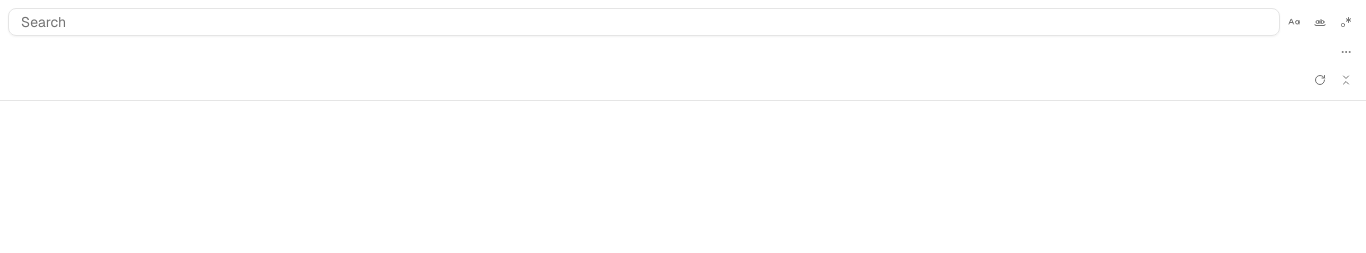
Test case: SearchPanel results › shows grouped results and the result count after typing
Step 1. Type "alpha" into the field named "Search in files" → (644, 22), box x1=8 y1=8 x2=1280 y2=36
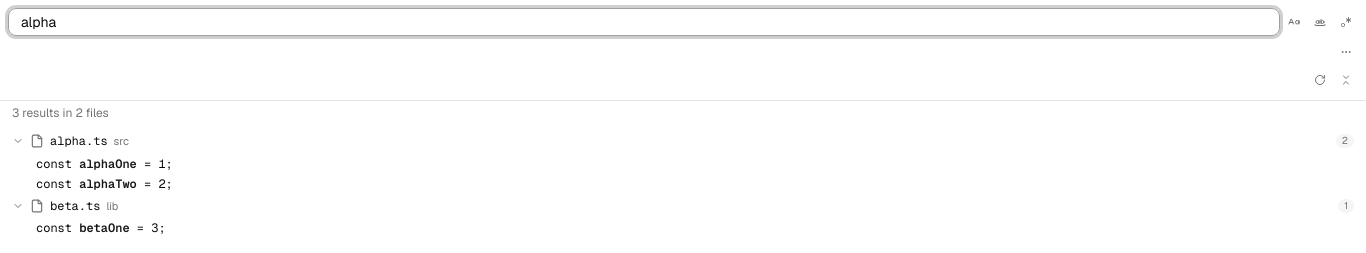
Now the text "3 results in 2 files" is shown, box x1=12 y1=105 x2=109 y2=121
Now the text "alpha.ts" is shown, box x1=50 y1=133 x2=108 y2=149
Now the text "beta.ts" is shown, box x1=50 y1=198 x2=100 y2=214
